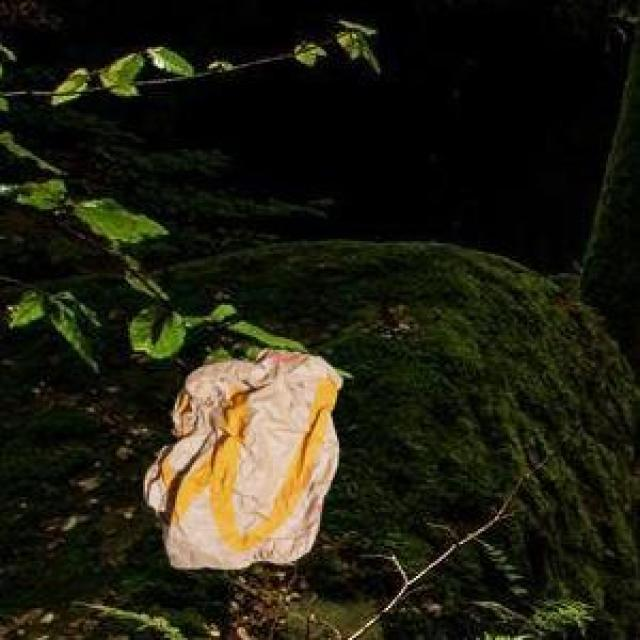paper: (141, 346, 337, 565)
